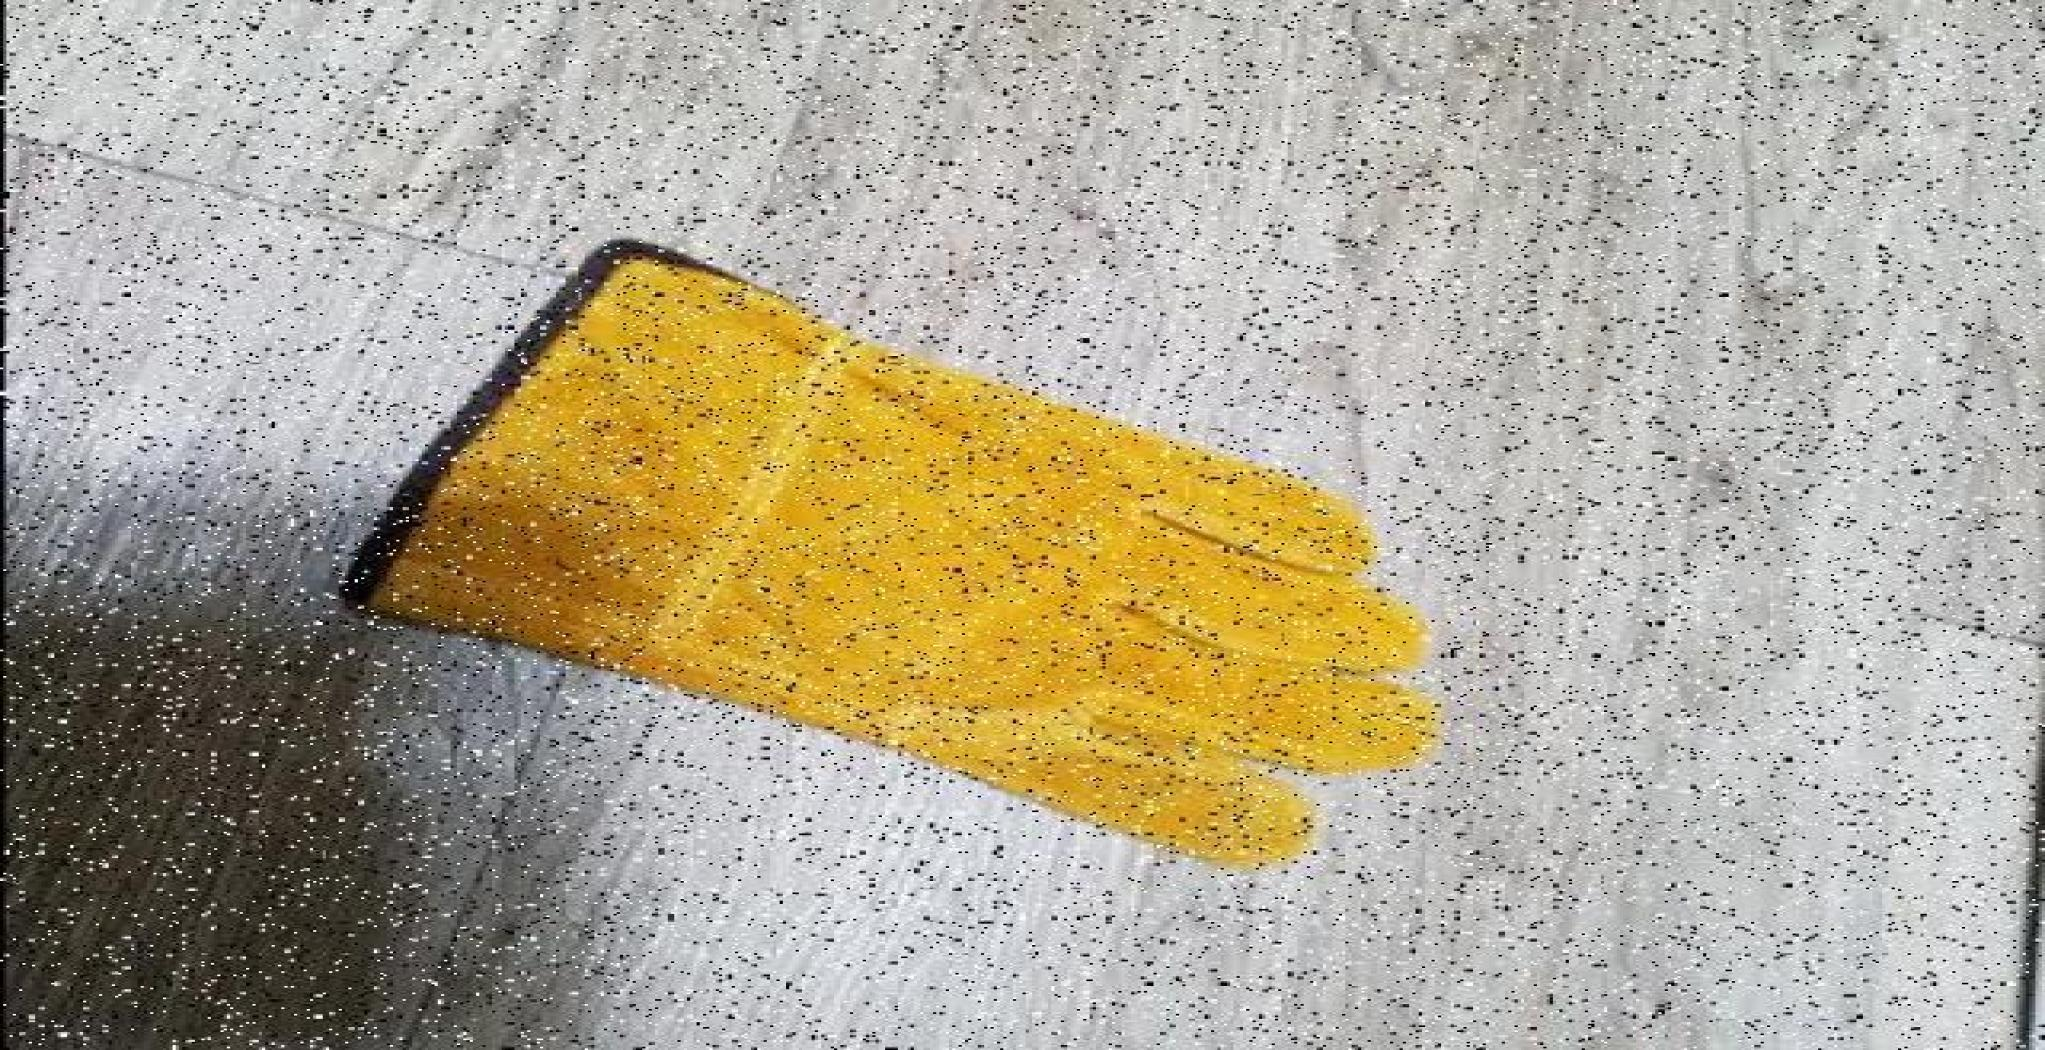gloved: (336, 238, 1444, 871)
